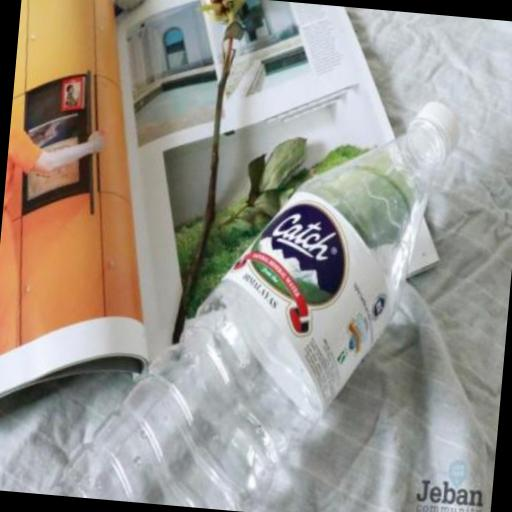Coca: (51, 65, 468, 512)
